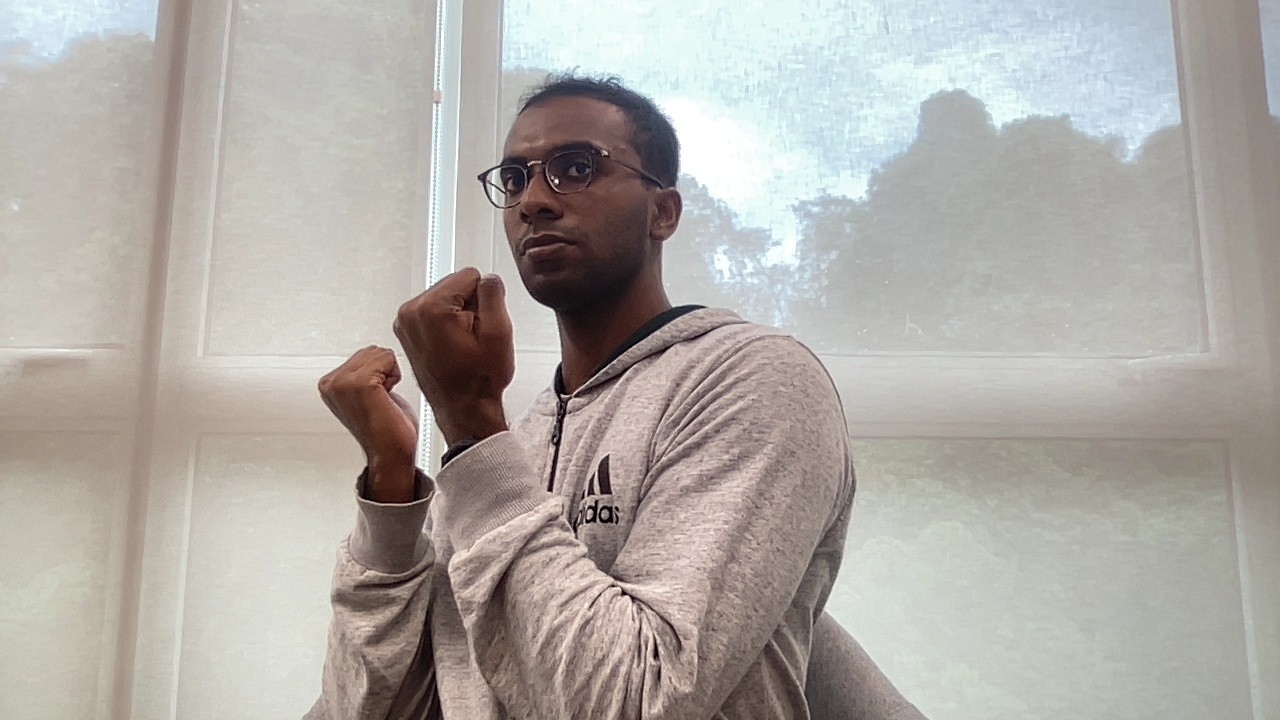finish: (314, 262, 526, 443)
